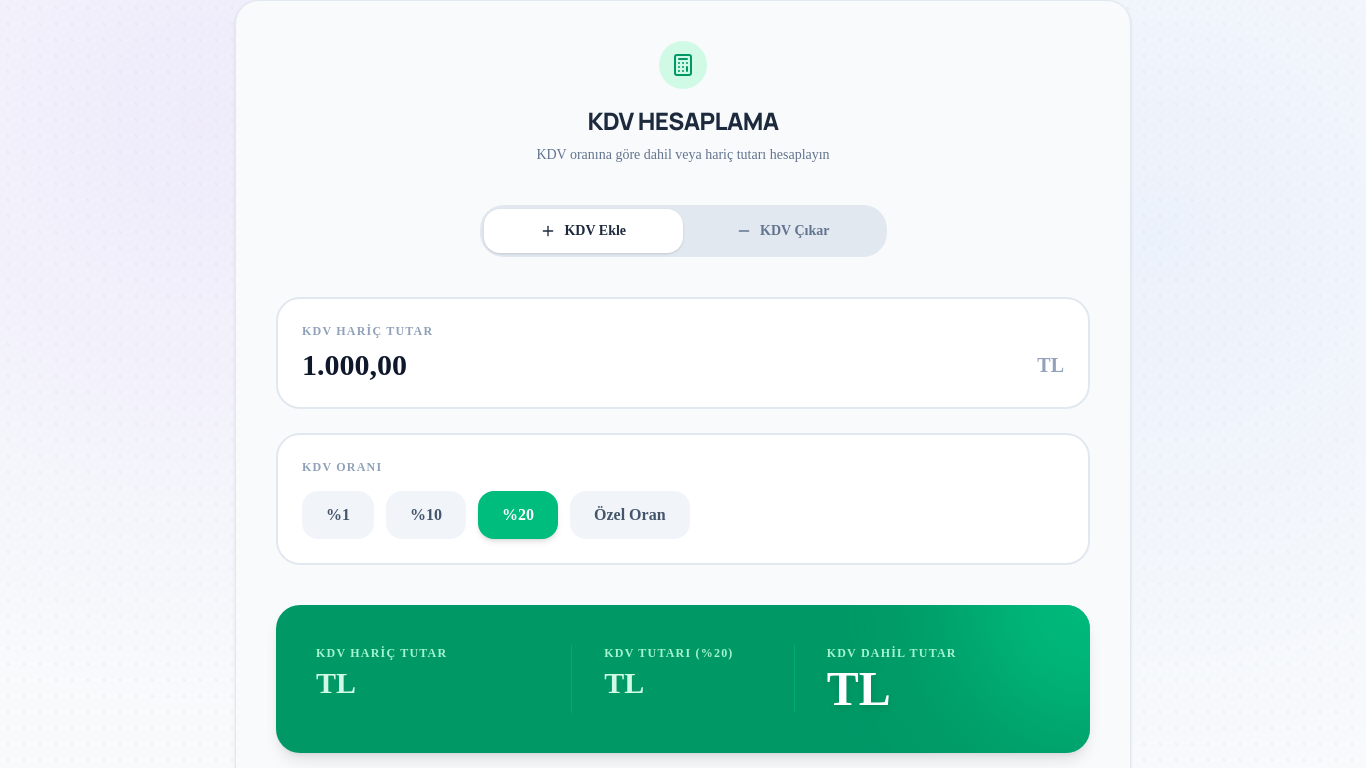
KdvHesaplamaForm Component › switches mode when buttons clicked
Click the button "KDV Çıkar" at (783, 231), box [683, 209, 882, 253]
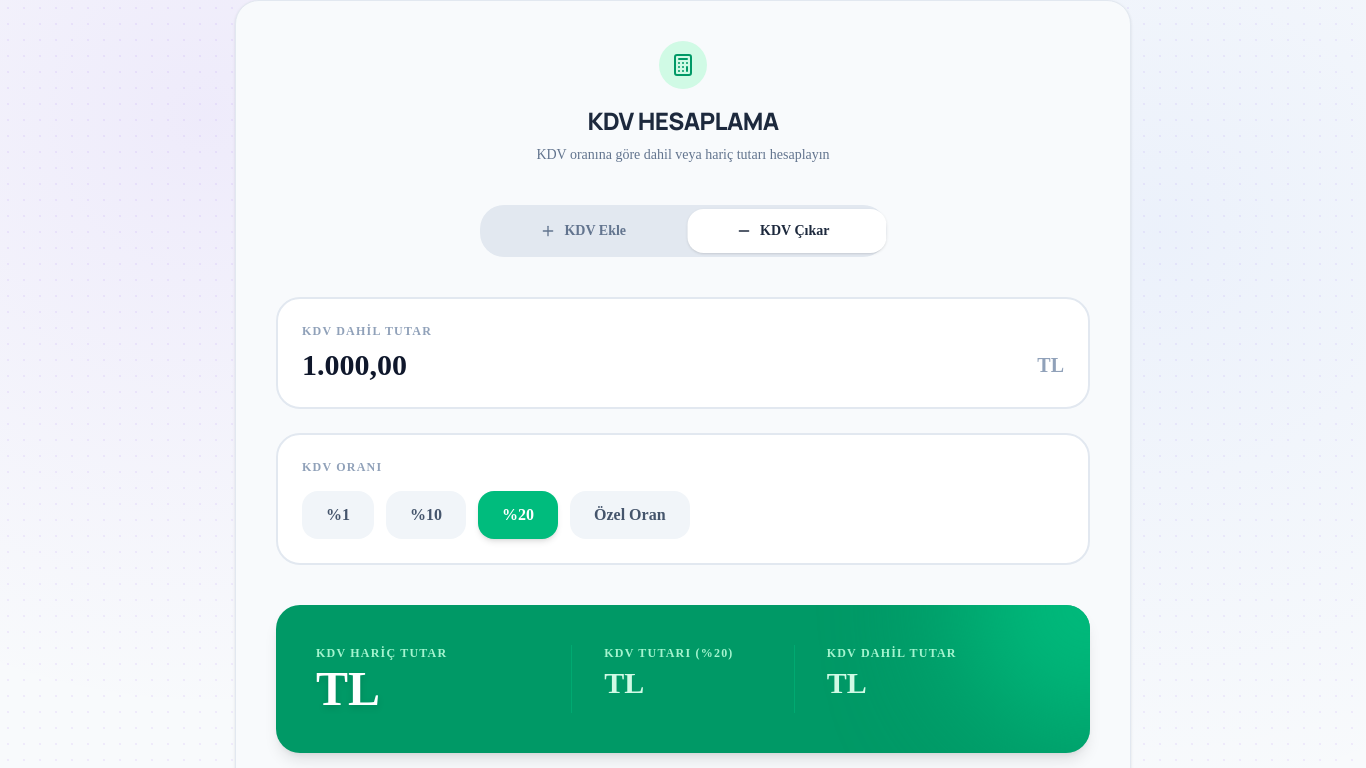
Result: the text "KDV Dahil Tutar" is shown at [302, 324, 432, 338]
